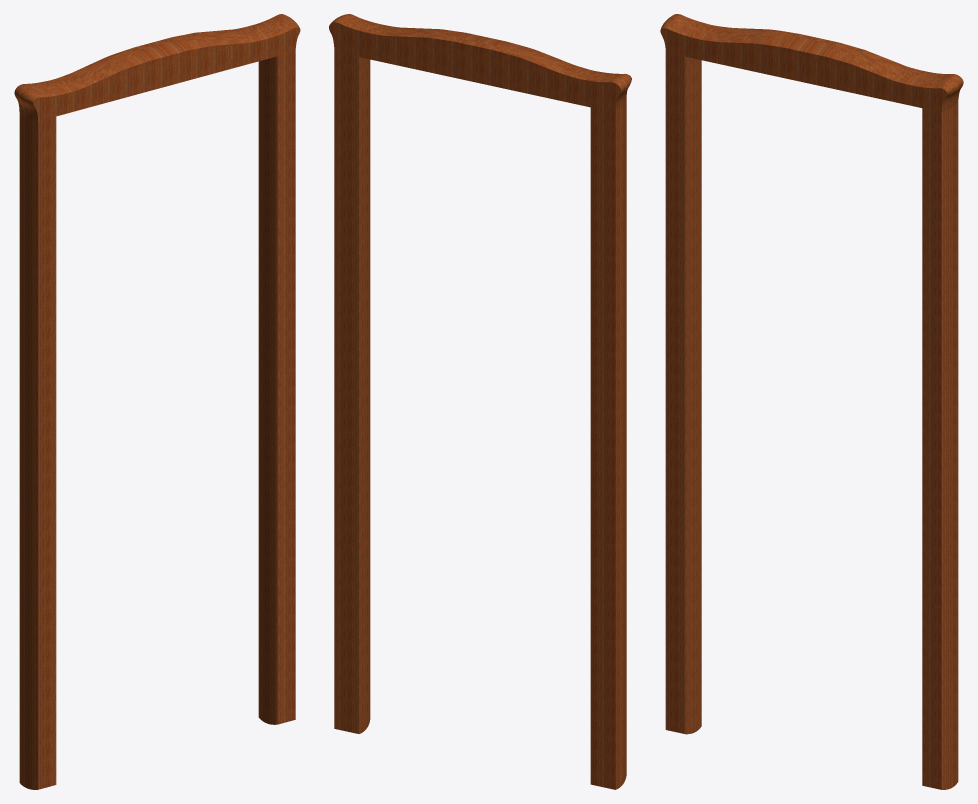
Rendered from original-4.obj.
3 views of the same model, side by side, from view 1: azimuth 30°, elevation 25°; view 2: azimuth 150°, elevation 25°; view 3: azimuth 330°, elevation 25° (orthographic).
Parts seen in each view (by area): view 1: instance_2/Line36/ID39#ID39; view 2: instance_2/Line36/ID39#ID39; view 3: instance_2/Line36/ID39#ID39.
Boxes of the visible parts, x1,y1,x2,y2 form: instance_2/Line36/ID39#ID39: [14, 14, 300, 789]; instance_2/Line36/ID39#ID39: [329, 14, 631, 789]; instance_2/Line36/ID39#ID39: [660, 14, 963, 789].
Size of the model in its own units: 0.7905 by 1.89 by 0.1099.
1 material, 1 textured.
